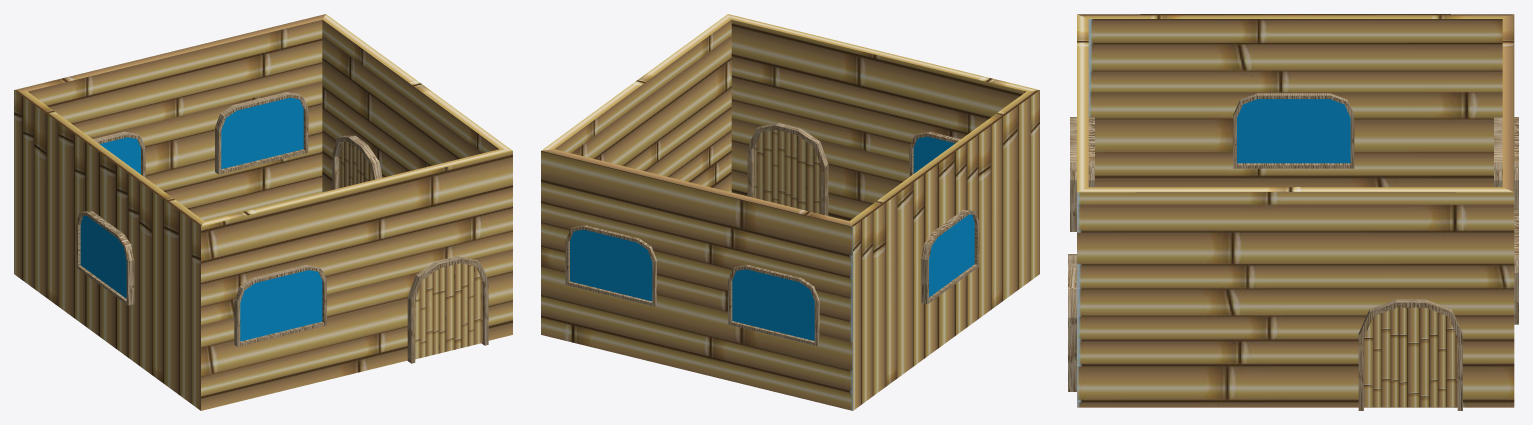
The model's file is CajaCasa 3.1 Interior.fbx.
3 renders of one model, left to right at view 1: azimuth 30°, elevation 25°; view 2: azimuth 150°, elevation 25°; view 3: azimuth 270°, elevation 25°, orthographic. The views are drawn at different scales.
Parts seen in each view (by area): view 1: Base 1.004; view 2: Base 1.004; view 3: Base 1.004.
Boxes of the visible parts, x1,y1,x2,y2 form: Base 1.004: [14, 14, 512, 410]; Base 1.004: [541, 14, 1039, 410]; Base 1.004: [1068, 14, 1518, 410].
Bounding box in the file's own units: 476 × 259 × 491.
14 materials, 10 textured.
